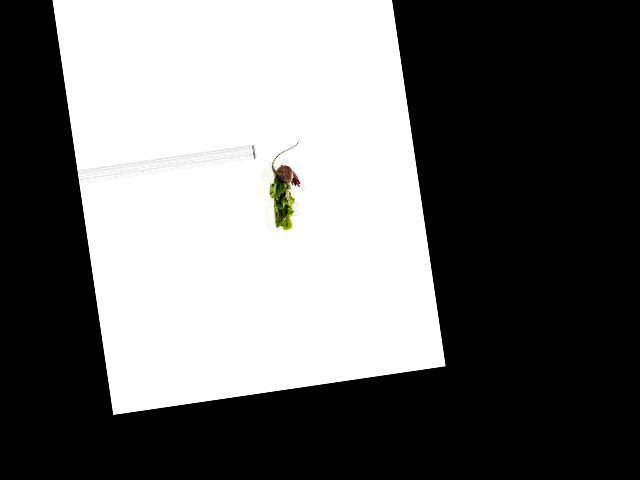beet: (268, 139, 306, 190)
